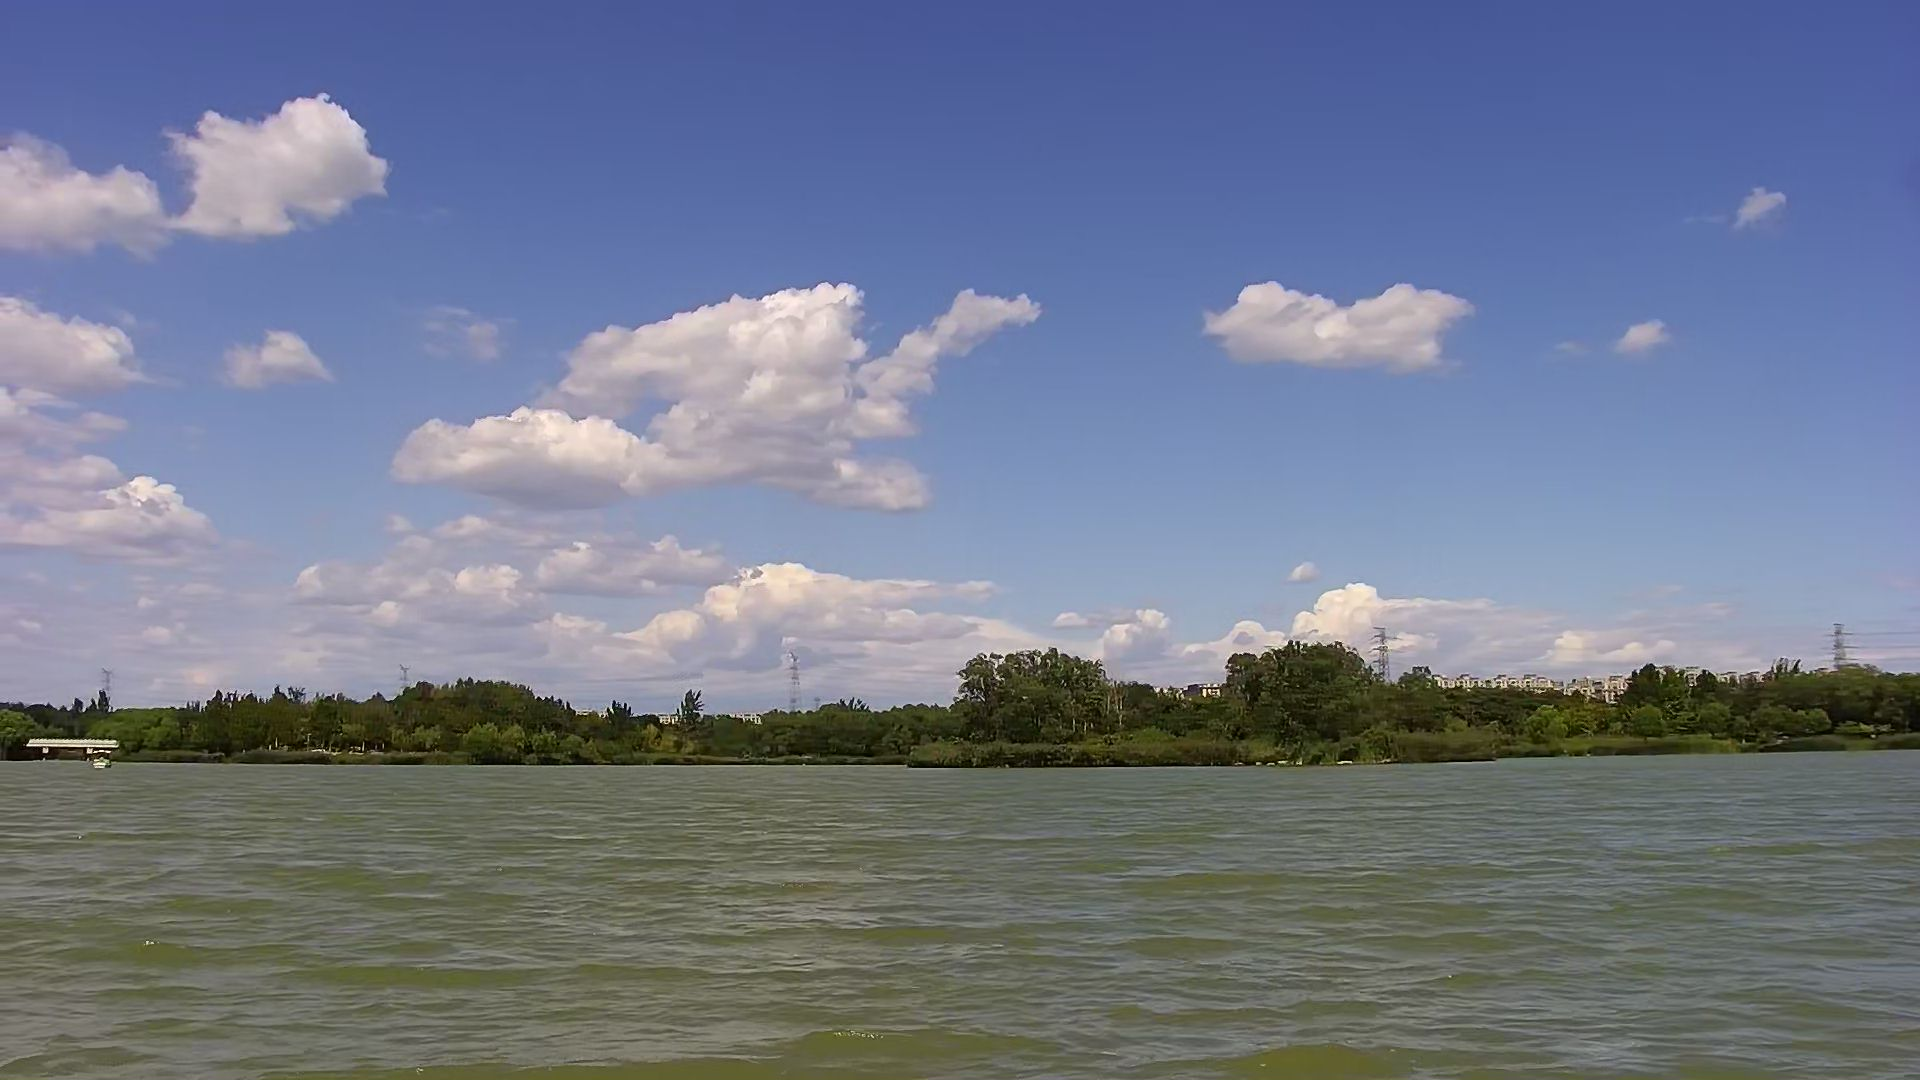boat: (87, 748, 123, 771)
bridge: (25, 727, 117, 762)
